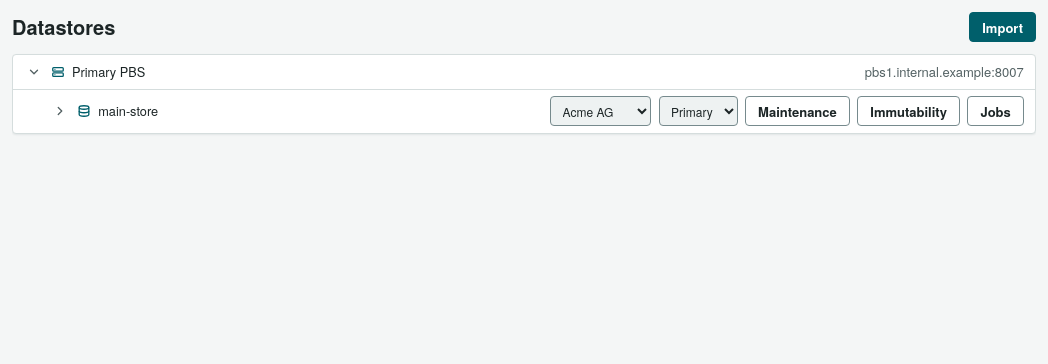
it: DatastoresPage — backup group filter › filters groups by backup ID as you type
Expected: the text "Primary PBS" is shown, [72,62,145,82]
Click the button named "Expand" at (60, 111), box [50,102,69,121]
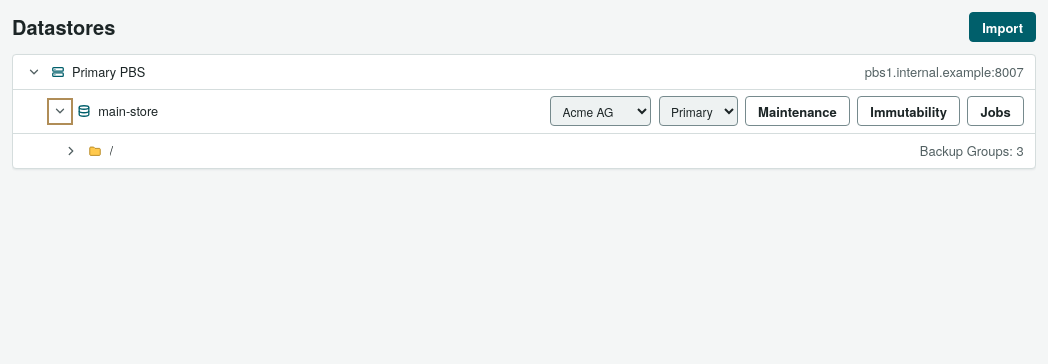
Expected: the text "main-store" is shown, [98,101,158,121]
Click the button named "Expand" at (71, 151), box [62,141,81,160]
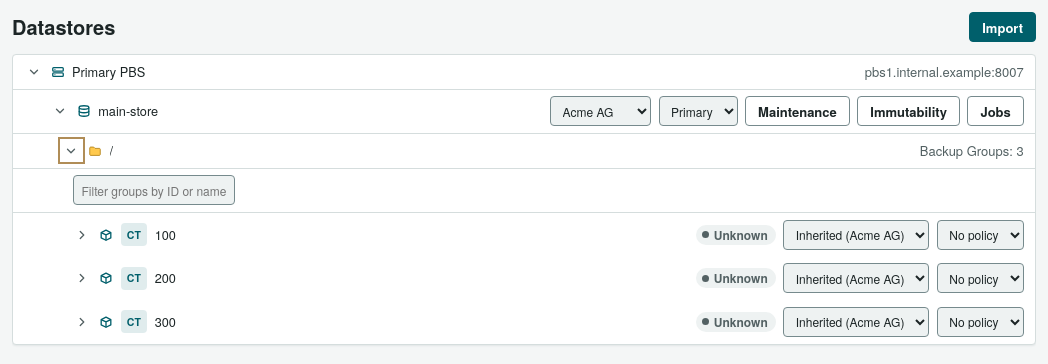
Now the text "/" is shown, box [110,141,113,161]
Click the button named "Expand" in the row of "100" at (82, 235), box [73,225,92,244]
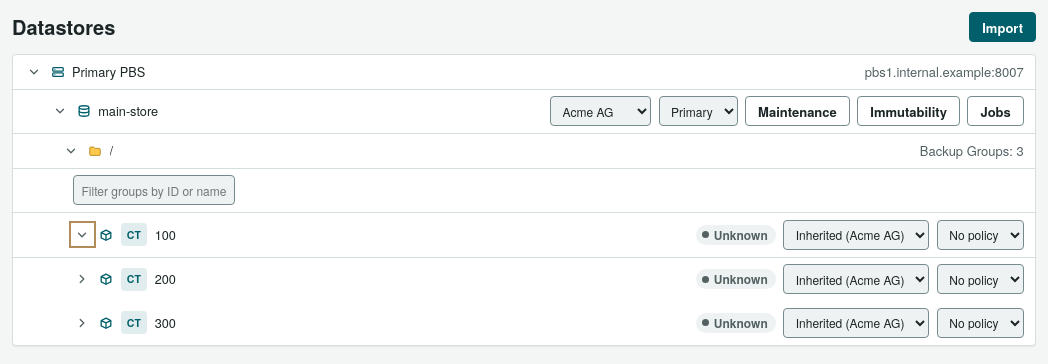
Now the text "100" is shown, box [155,225,176,245]
Type "200" into the field with placeholder "Filter groups by ID or name…" at (154, 190), box [73,175,235,205]
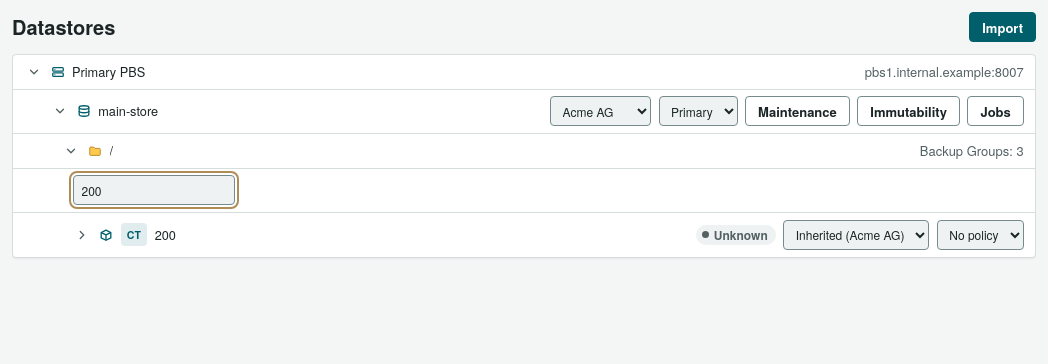
Now the text "200" is shown, box [155,225,176,245]
Now the text "100" is gone
Now the text "300" is gone
